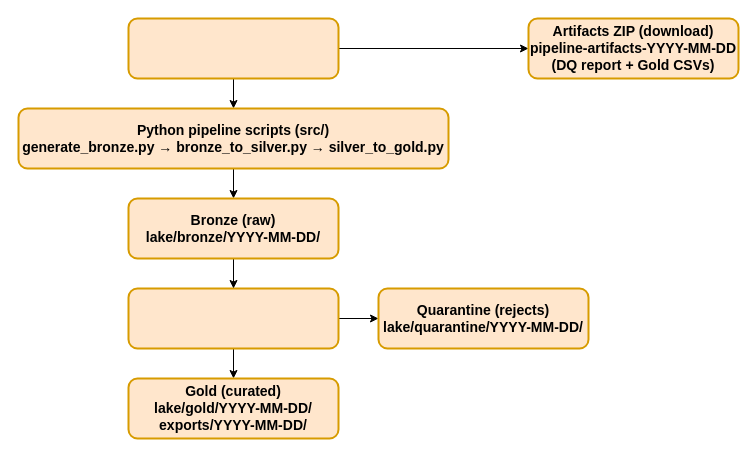
Some shapes in this 756 by 456 pixel diagram are drawn without their labels. The centre of each missing label's shape, as x and y in pixels:
GitHub Actions (pipeline.yml) Trigger: schedule / manual: (233,48)
Silver (validated) lake/silver/YYYY-MM-DD/: (233,318)
